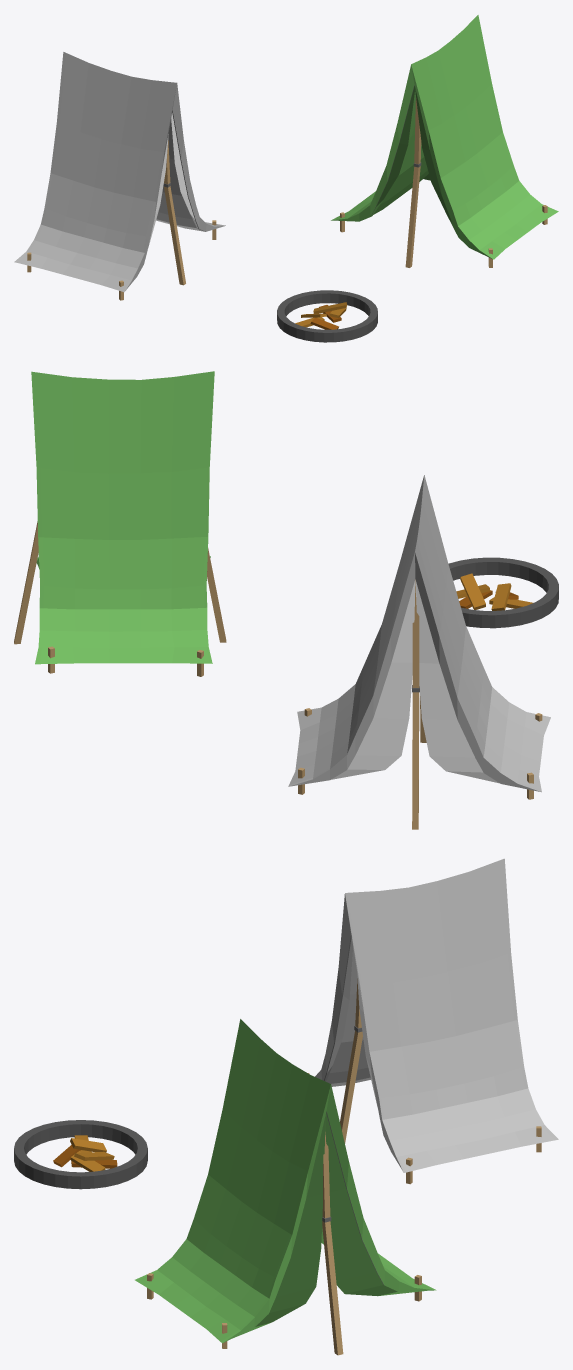
File: Campsite1.fbx
3 renders of one model, top to bottom at view 1: azimuth 30°, elevation 25°; view 2: azimuth 150°, elevation 25°; view 3: azimuth 270°, elevation 25°, orthographic. The views are drawn at different scales.
Visible parts, largest first — view 1: Tent2, Tent1, Cylinder; view 2: Tent1, Tent2, Cylinder; view 3: Tent2, Tent1, Cylinder.
Boxes of the visible parts, bbox=[...] form: Tent2: bbox=[14, 52, 225, 300]; Tent1: bbox=[331, 15, 558, 267]; Cylinder: bbox=[277, 290, 377, 342]; Tent1: bbox=[14, 371, 226, 676]; Tent2: bbox=[288, 475, 550, 829]; Cylinder: bbox=[448, 557, 558, 628]; Tent2: bbox=[308, 858, 558, 1184]; Tent1: bbox=[135, 1019, 436, 1355]; Cylinder: bbox=[14, 1120, 147, 1189].
Size of the model in its own units: 1052 by 437 by 814.
